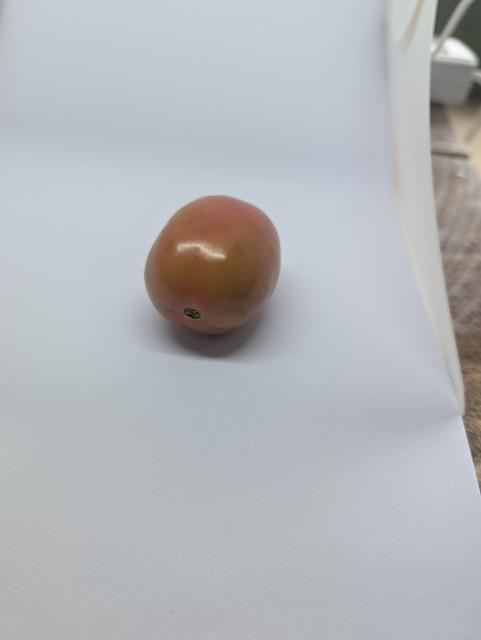turning: (129, 190, 290, 349)
